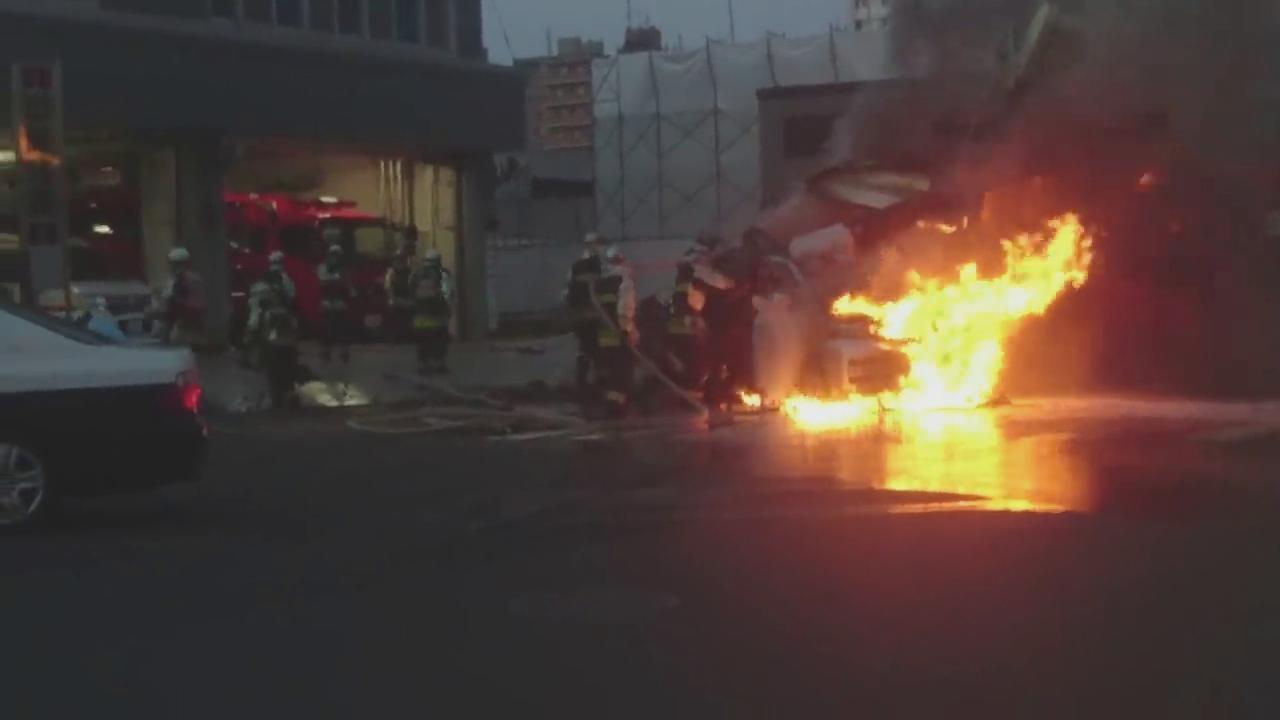Fire: (743, 217, 1100, 422)
